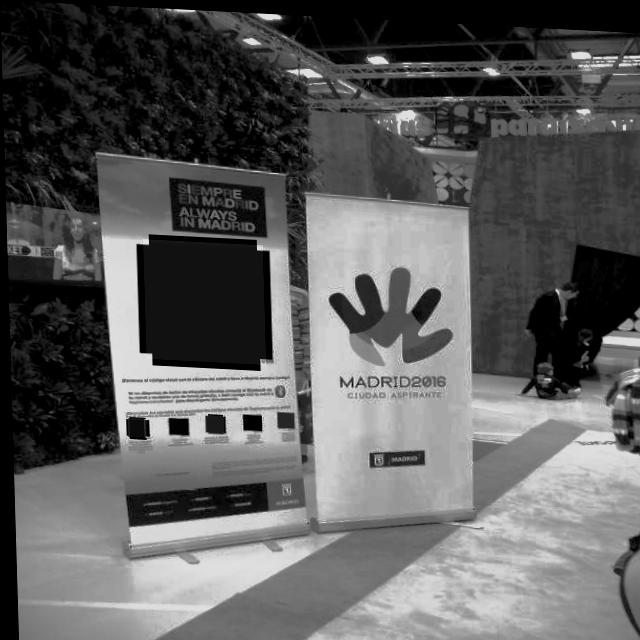qr_code: (141, 238, 264, 362), (125, 417, 146, 437), (167, 416, 187, 434), (204, 413, 222, 432), (240, 412, 260, 428), (275, 410, 292, 425)
